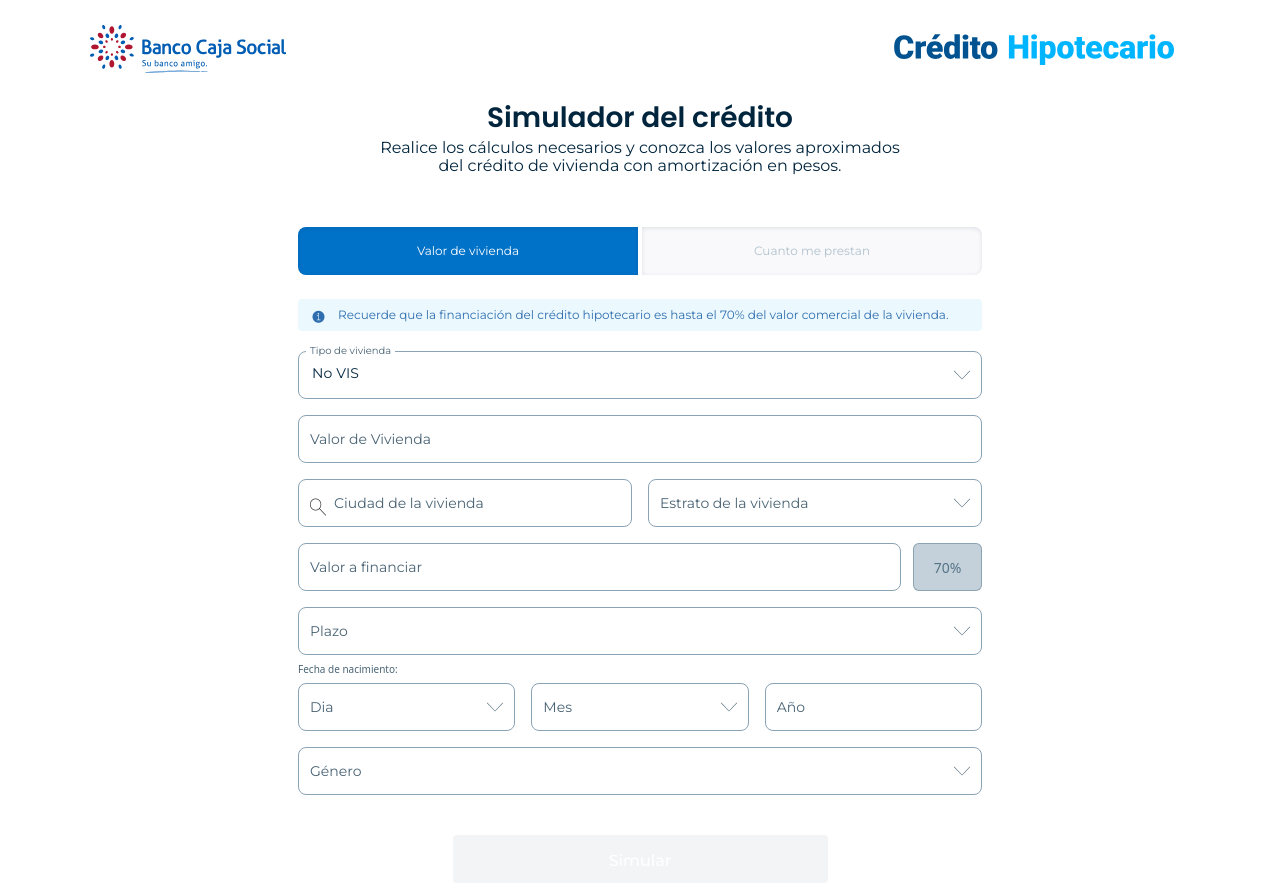
Test: All tests of formQuota › Simulator should update simulatioTypeOption state when clicking on salary or house simulation buttons
Click the button with test id "salaryTestBtn" at (812, 251), box top-left (642, 227), bottom-right (982, 275)
(page scrolled)
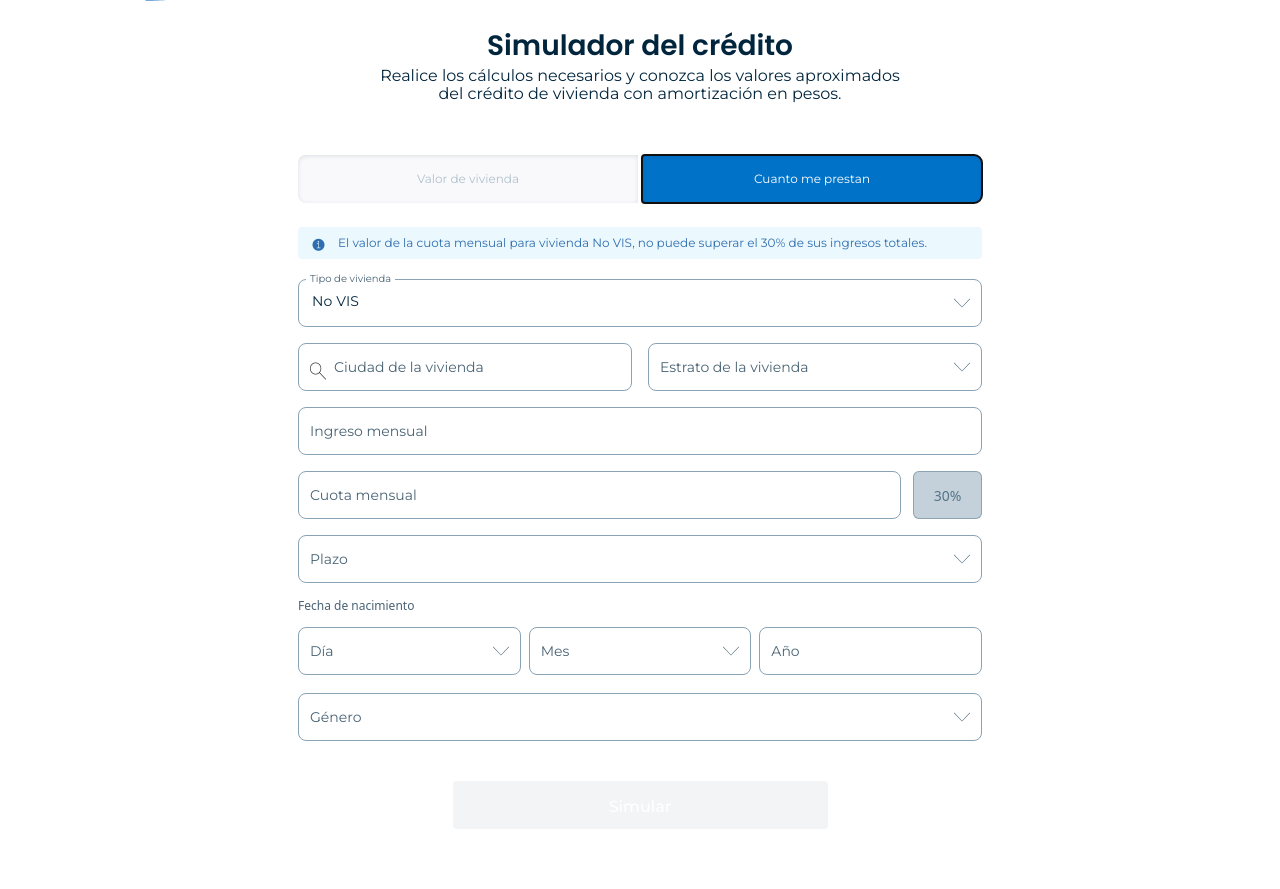
Expected: the element with test id "FormQuotaTest" is shown, top-left (298, 227), bottom-right (982, 869)
